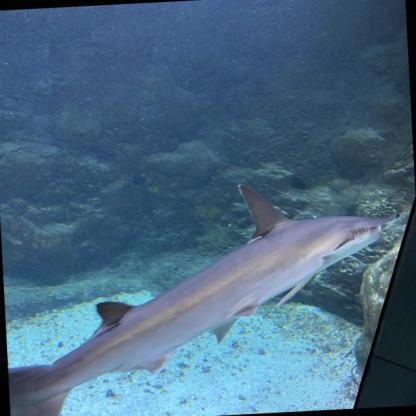shark: (0, 176, 410, 416)
